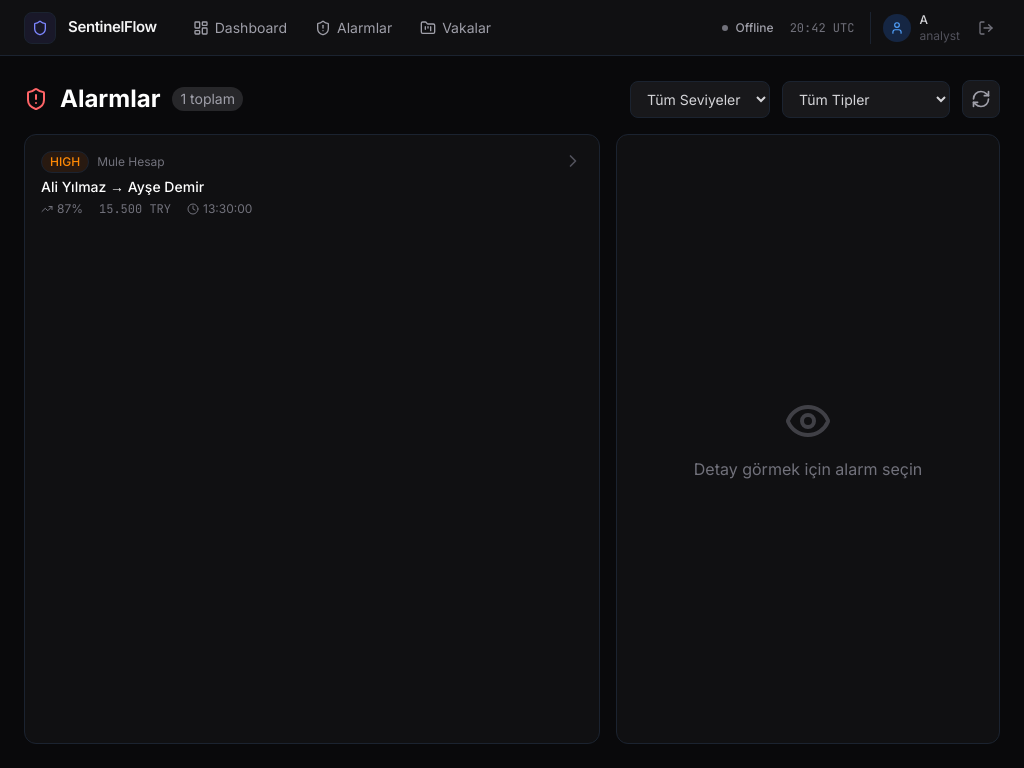
Test: Alarmdan vaka akışı › {"name":"ApiError","status":409,"kind":"conflict","detail":{"code":"case_not_open","message":"closed"}} hatasında mesaj gösterir ve diyaloğu açık tutar
Click the text "Ali Yılmaz → Ayşe Demir": click(123, 186) left=41, top=178, right=204, bottom=195
(page scrolled)
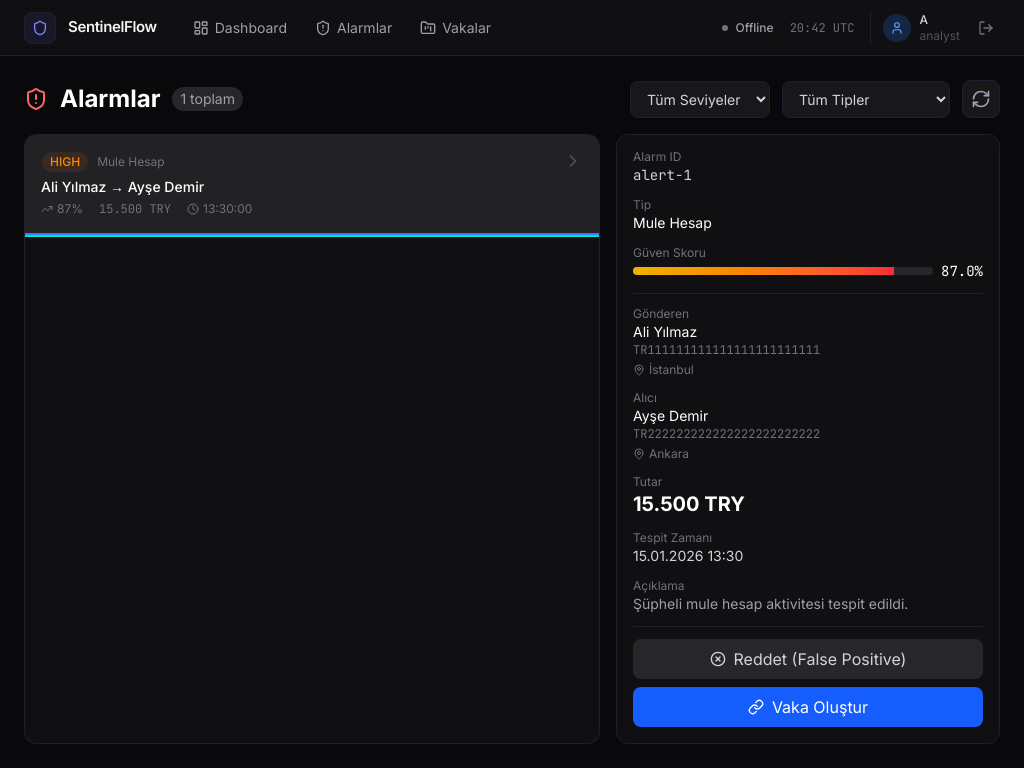
Click the button "Vaka Oluştur": click(808, 707) left=633, top=687, right=983, bottom=727
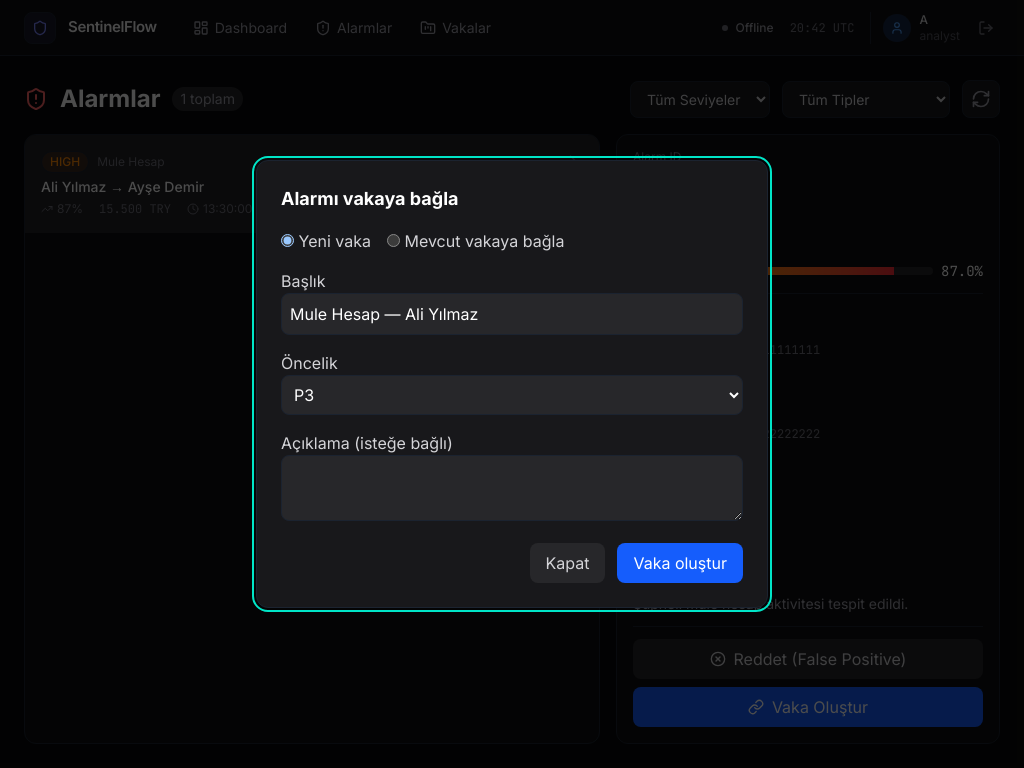
Click the button "Vaka oluştur": click(680, 563) left=617, top=543, right=743, bottom=583
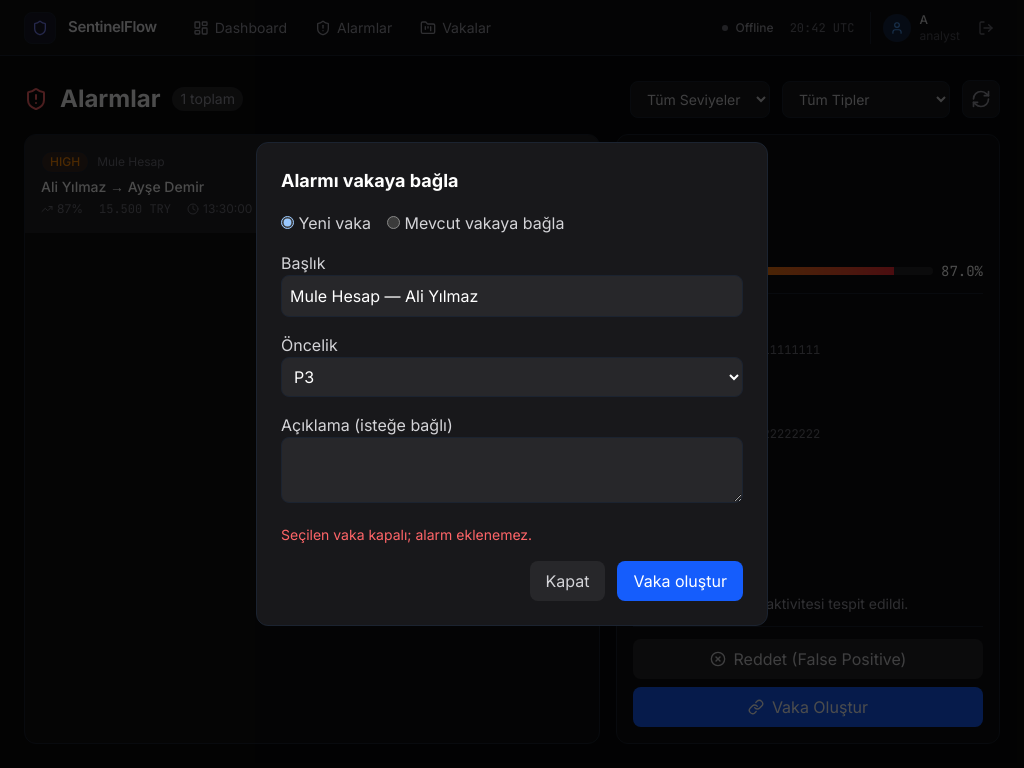
Expected: the dialog is shown, left=256, top=142, right=768, bottom=626
Expected: the button "Vaka oluştur" is enabled, left=617, top=561, right=743, bottom=601
Expected: the message reads "Seçilen vaka kapalı; alarm eklenemez.", left=281, top=526, right=532, bottom=543
